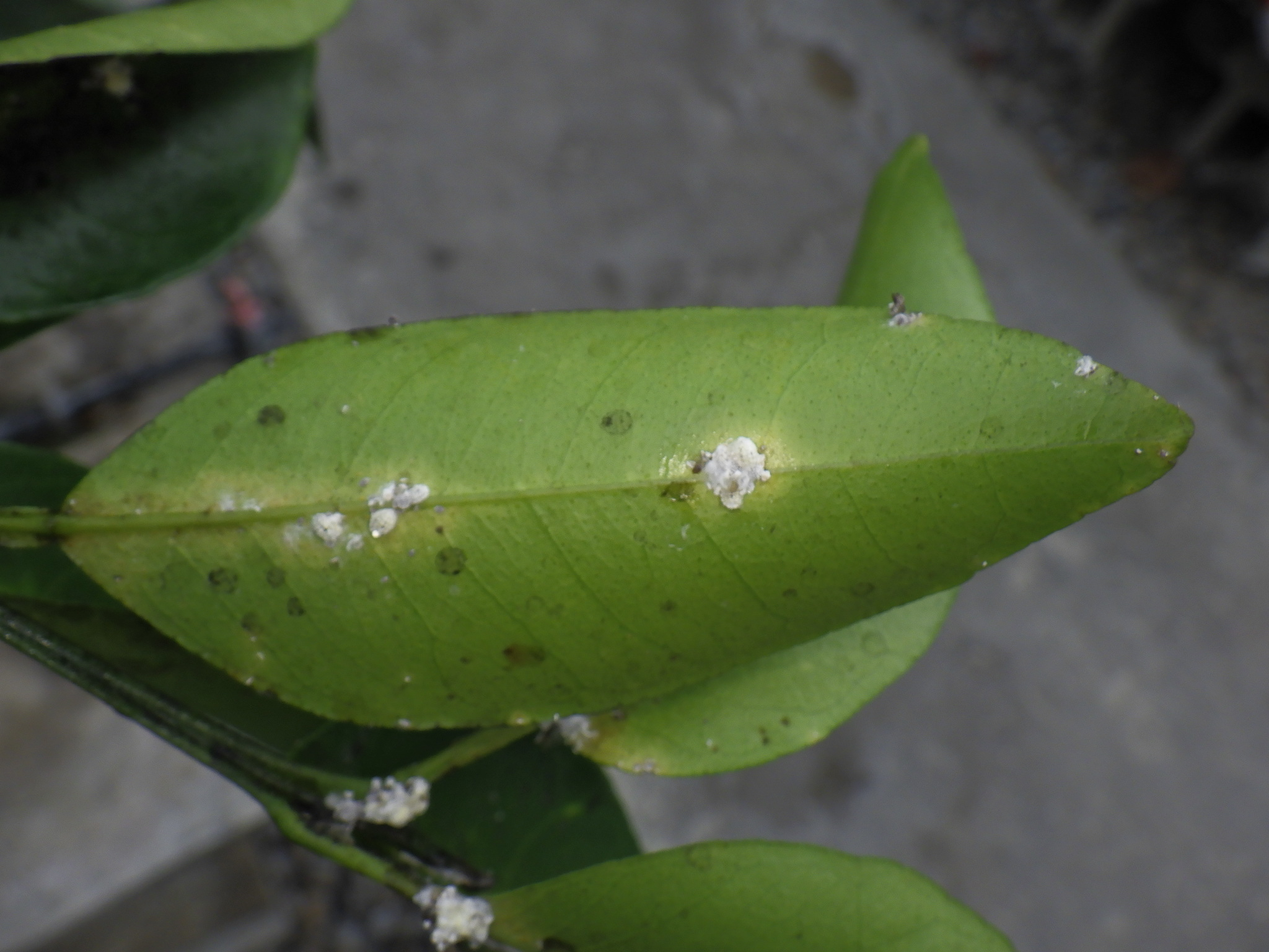Scale_Insect: (701, 437, 770, 508), (394, 485, 431, 508), (315, 512, 343, 542), (370, 509, 396, 535)
